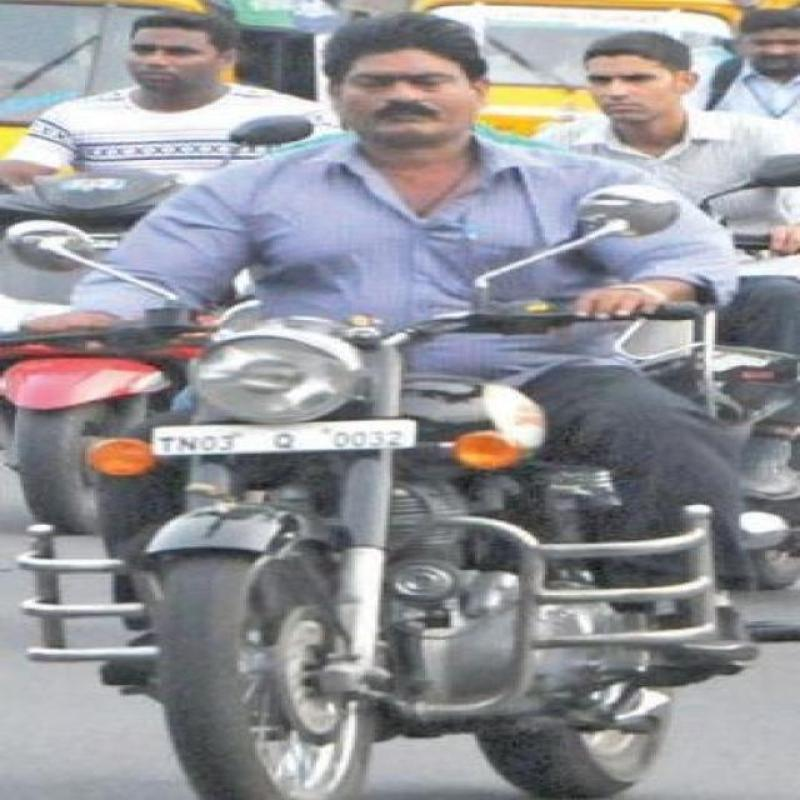nohelmet: (293, 18, 518, 147)
